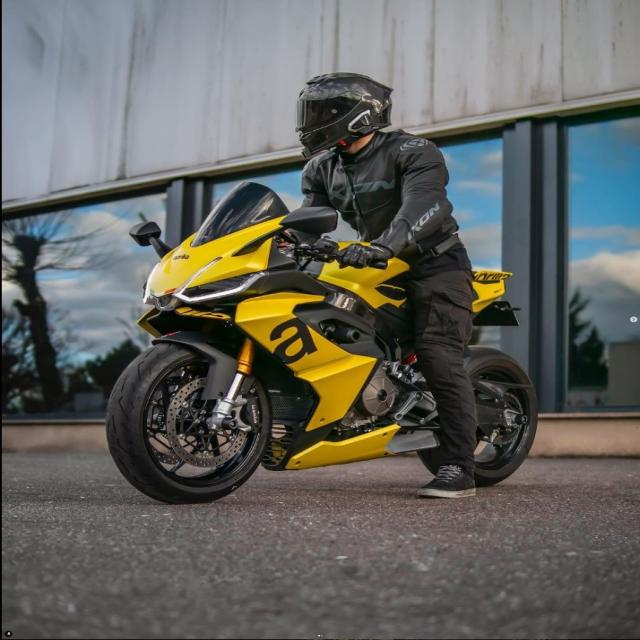helmet: (291, 68, 398, 160)
